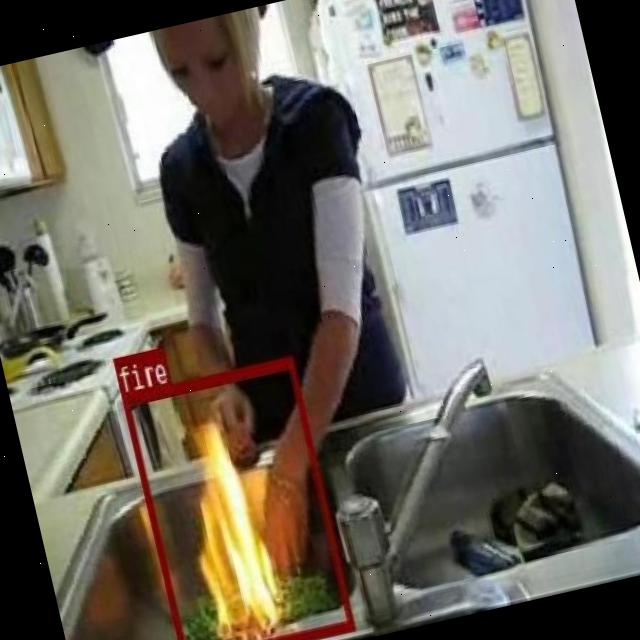fire: (120, 355, 352, 640)
